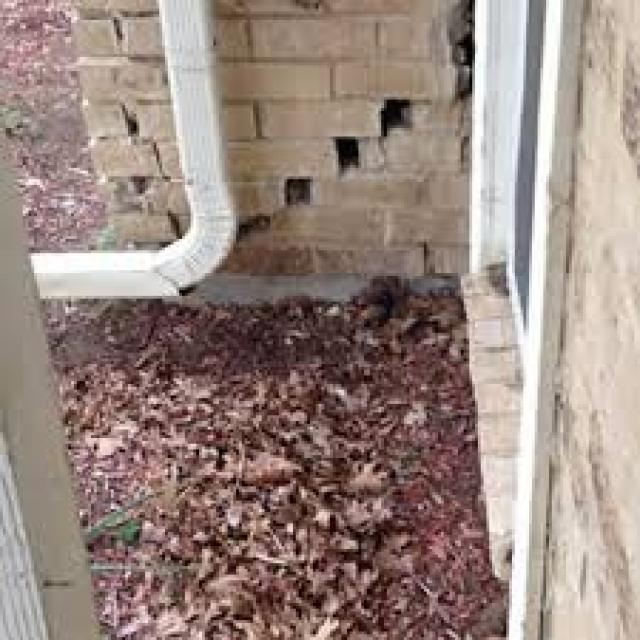Crack: (234, 91, 416, 233), (102, 14, 176, 236)
